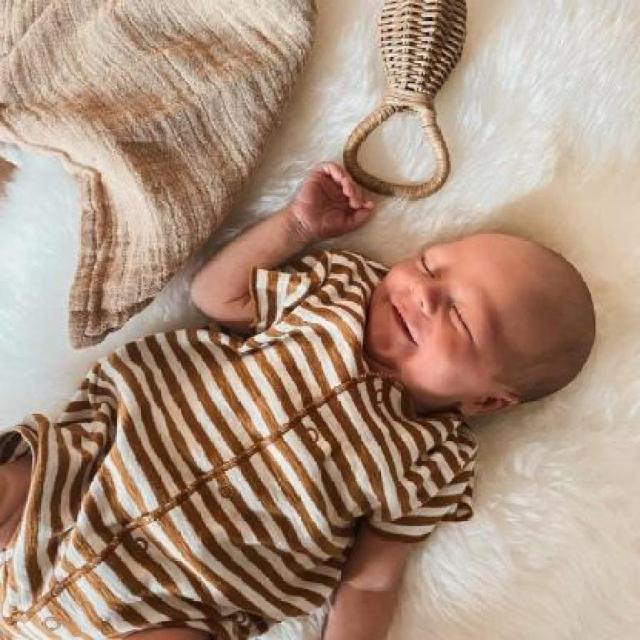baby: (1, 158, 594, 638)
